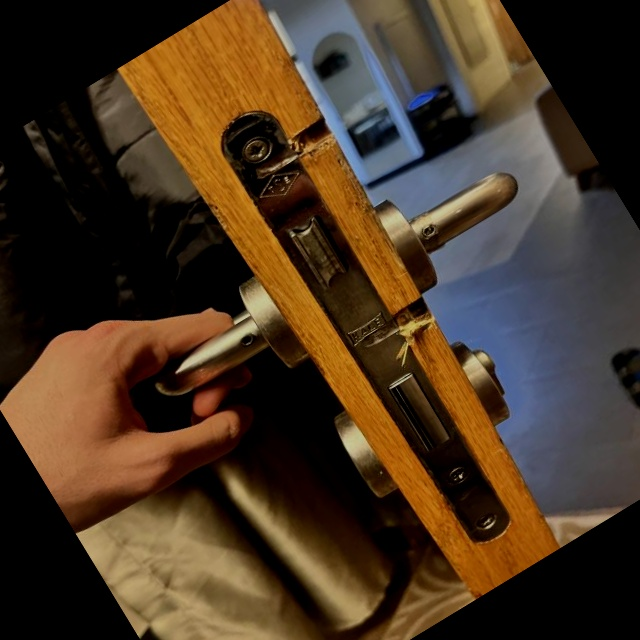phillips: (445, 463, 472, 487)
pozidriv: (239, 134, 274, 167), (474, 511, 497, 531)
